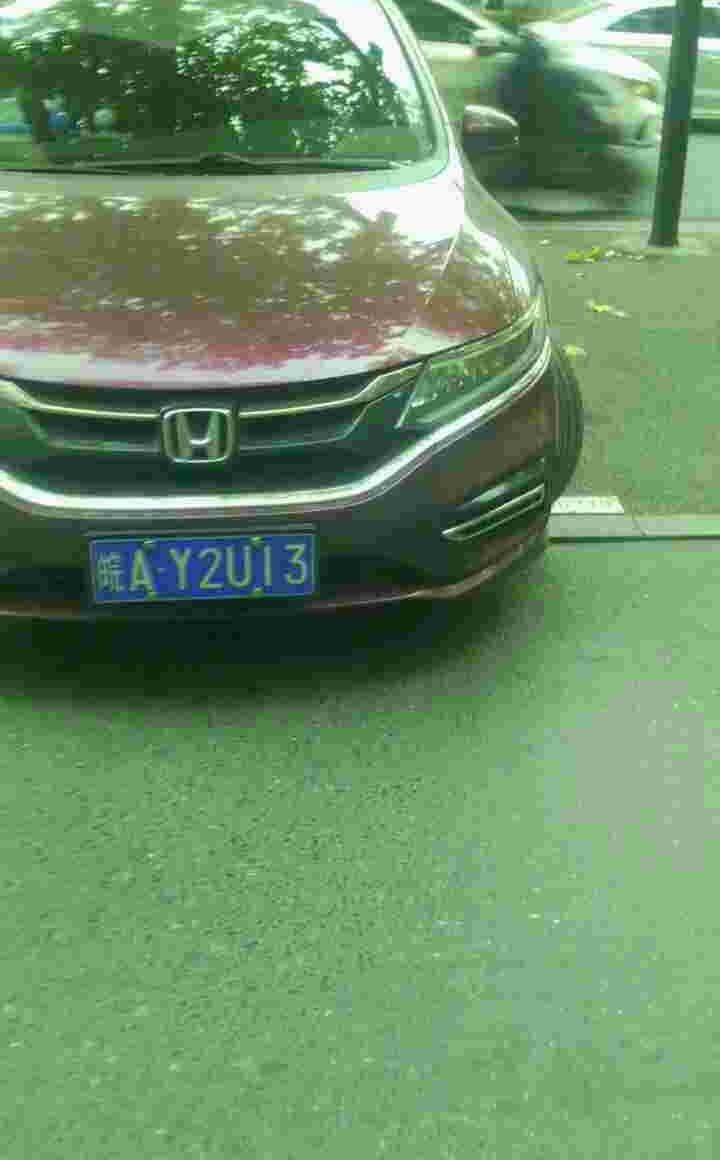license_plate: (75, 529, 321, 597)
